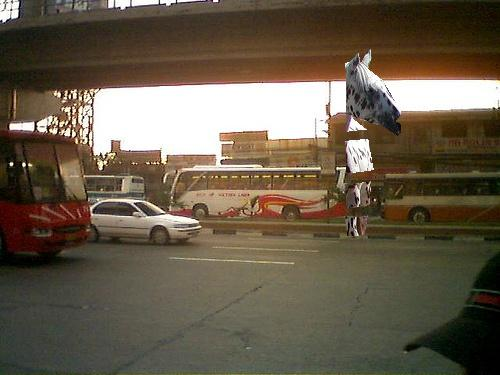tampered: (346, 50, 401, 236)
